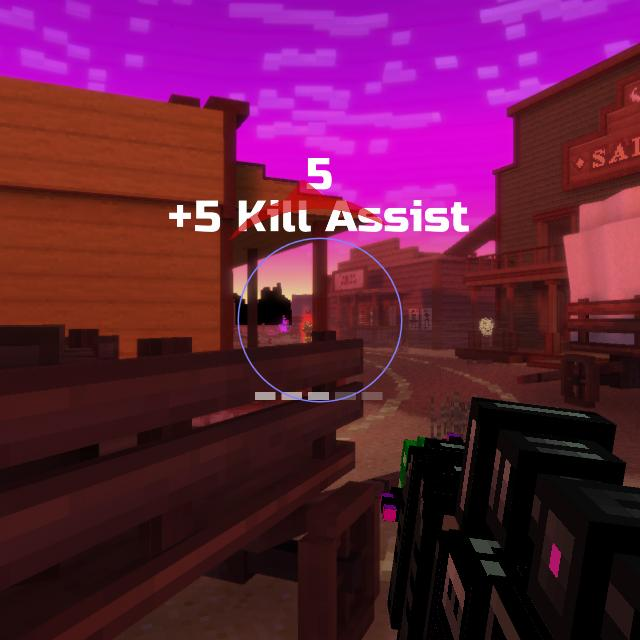Enemy: (302, 320, 315, 342)
